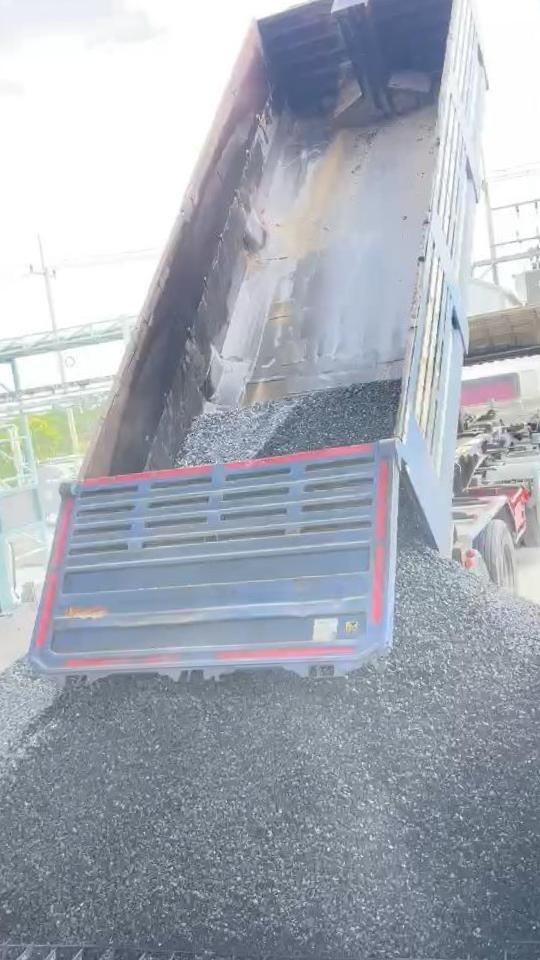gravel: (0, 499, 540, 954), (177, 381, 400, 465), (0, 658, 59, 791)
